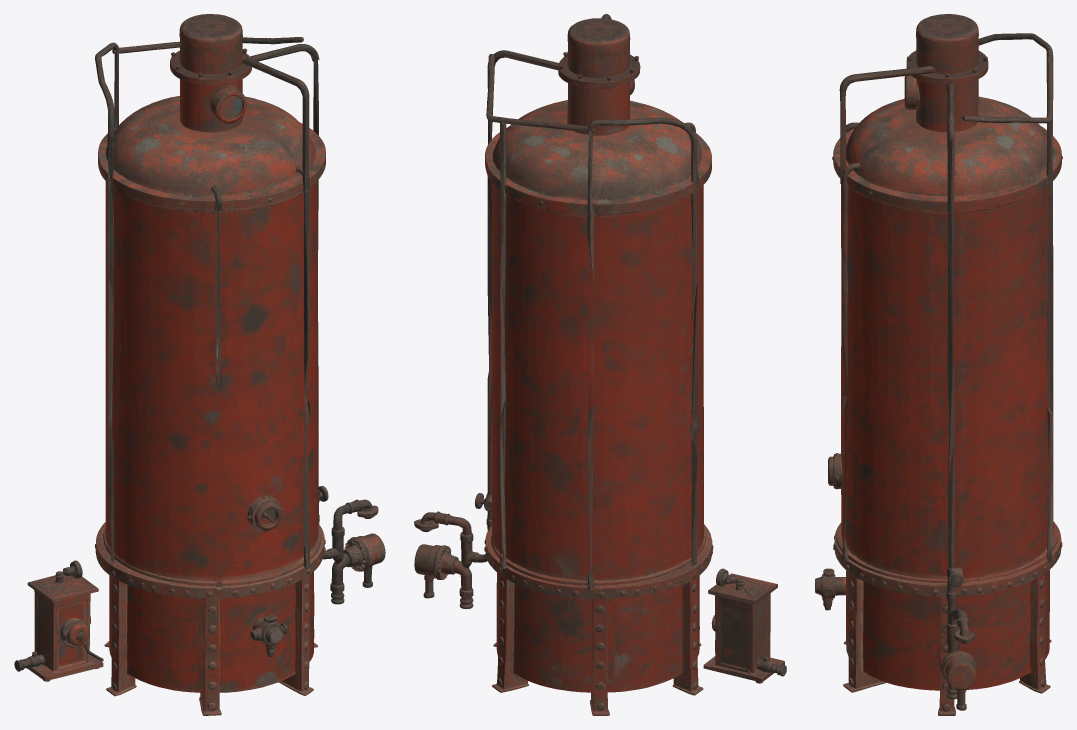
The model's file is cilindro_tubi.glb.
The picture shows the model from 3 angles, left to right: view 1: azimuth 30°, elevation 25°; view 2: azimuth 150°, elevation 25°; view 3: azimuth 270°, elevation 25°; orthographic projection.
Bounding box in the file's own units: 1.13 × 1.9 × 0.6669.
1 material, 1 textured.
